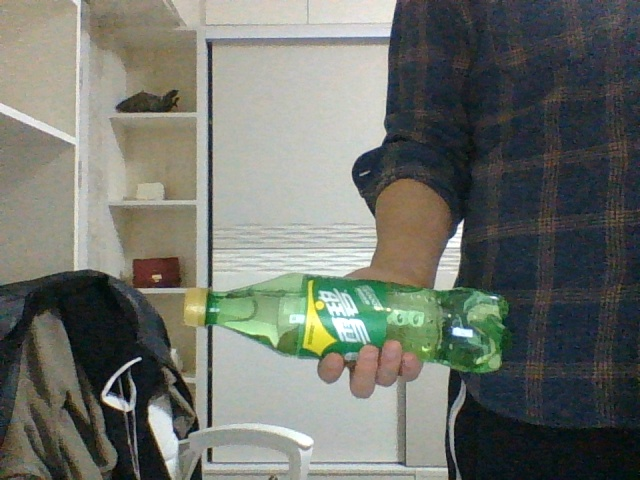Sprite: (182, 273, 510, 370)
